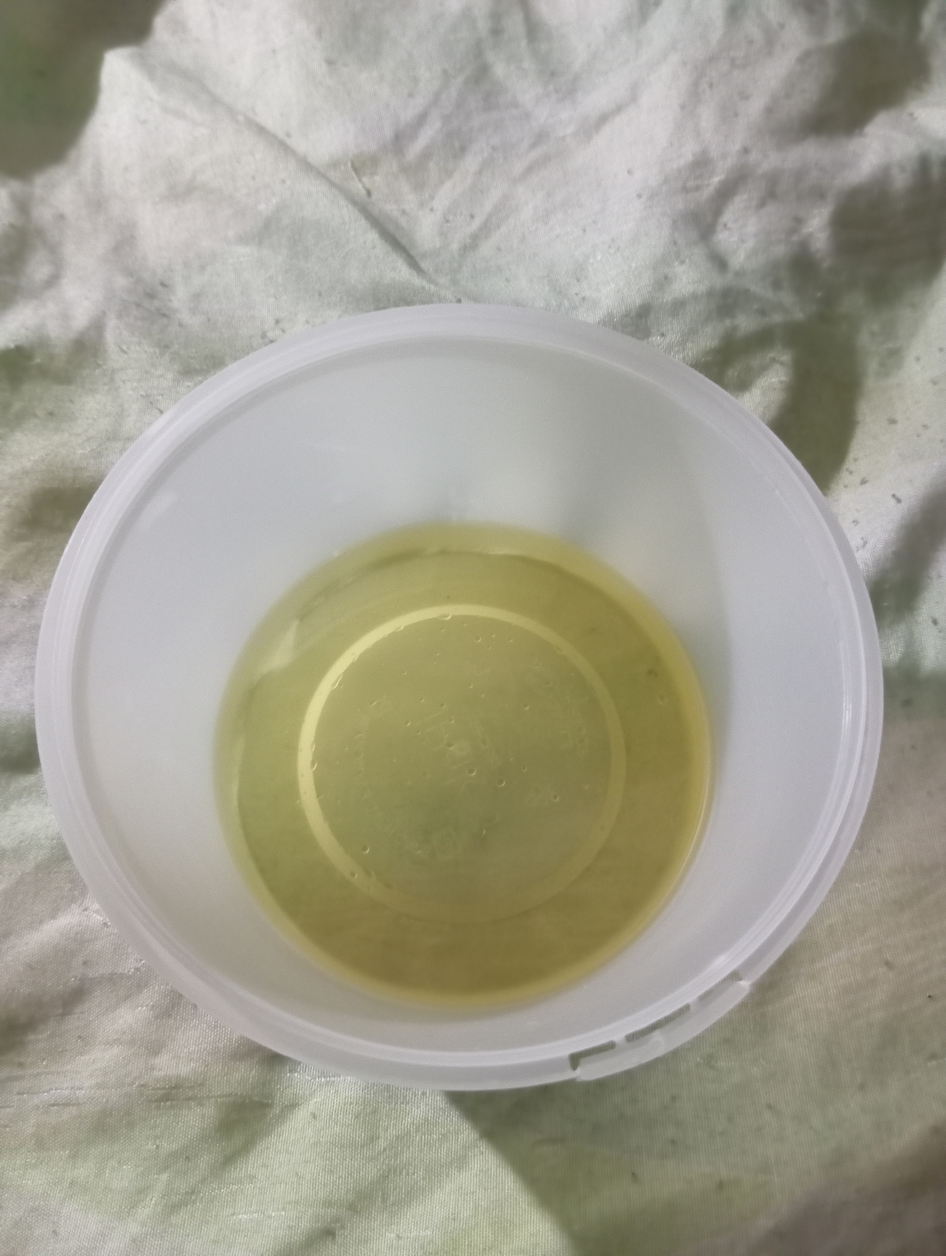reusable: (188, 502, 707, 1019)
